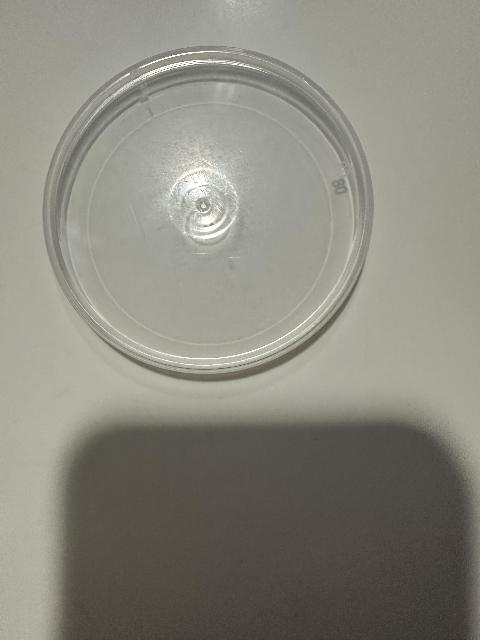Plastik: (41, 43, 369, 368)
